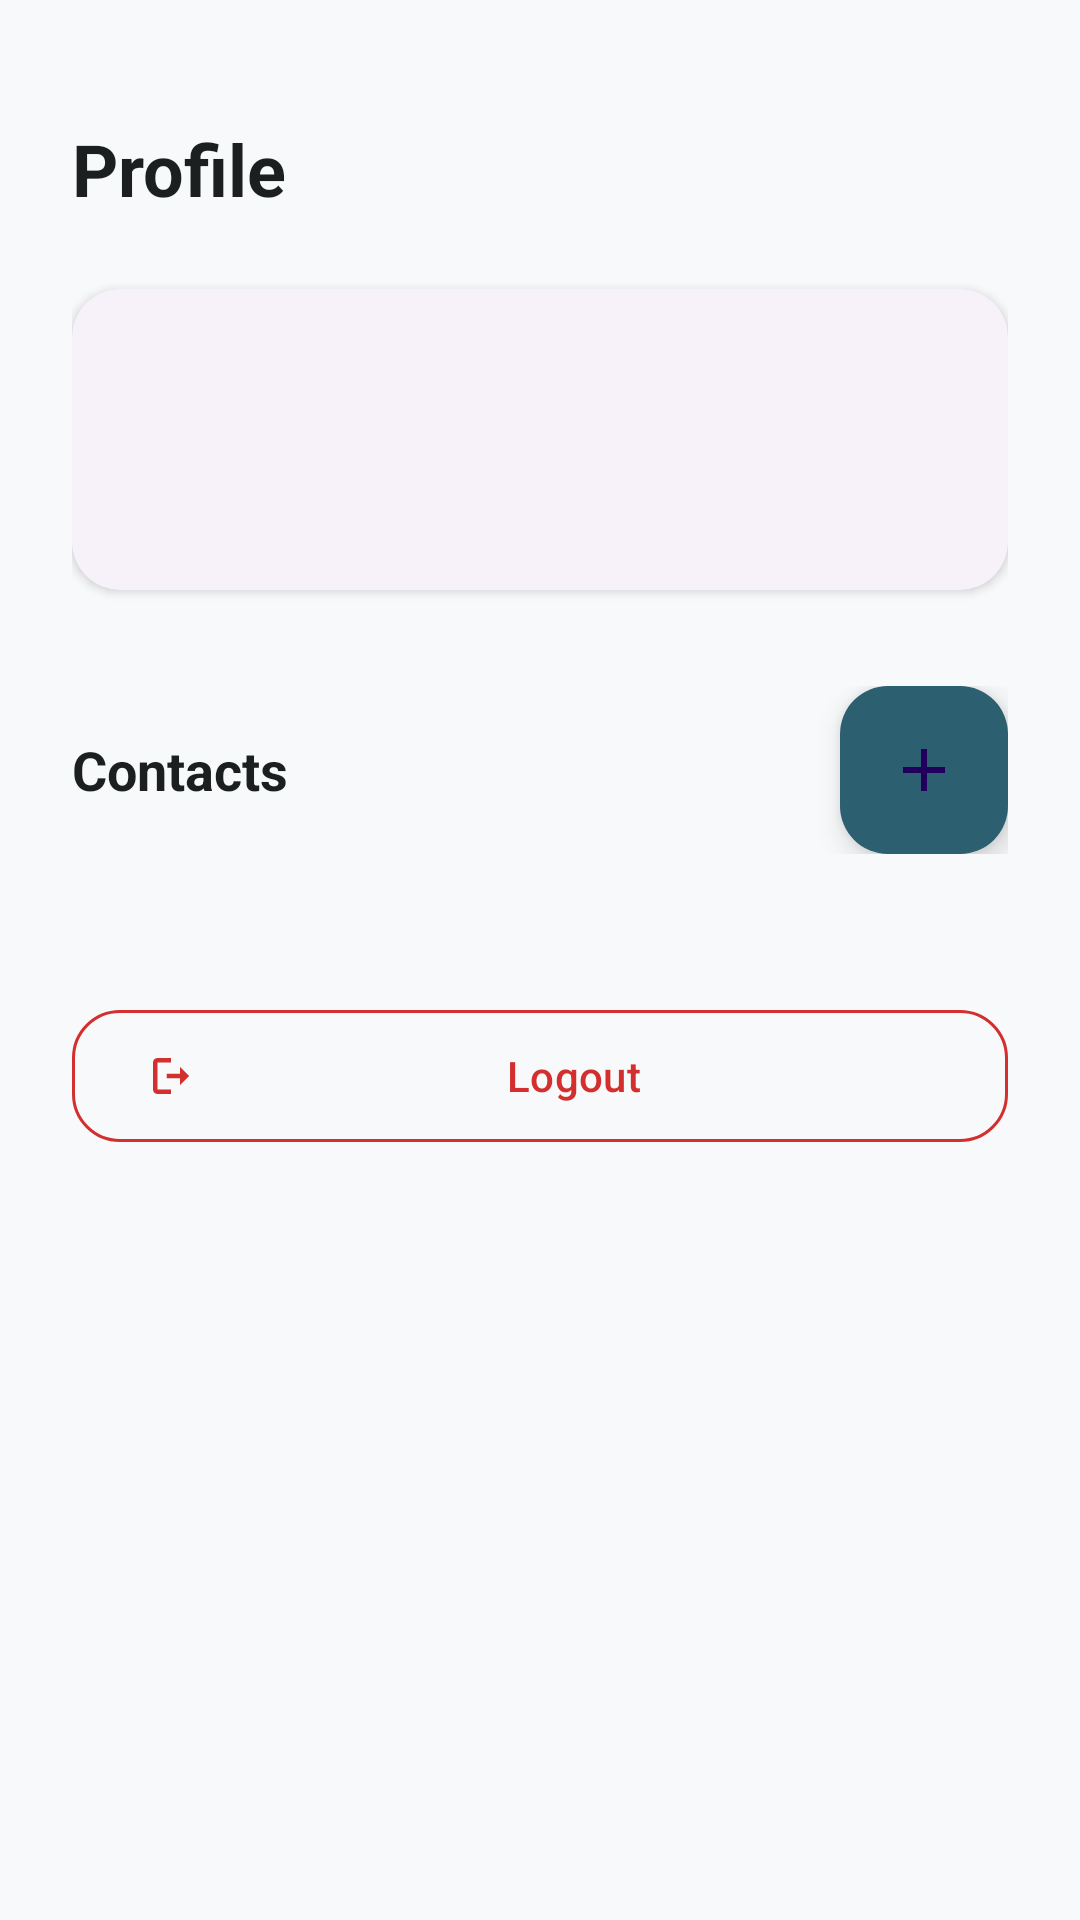

Named icons in this screenshot (1080×1920) and their bounding boxes, (x1, y1, x2, y2):
add: (840, 686, 1008, 854)
